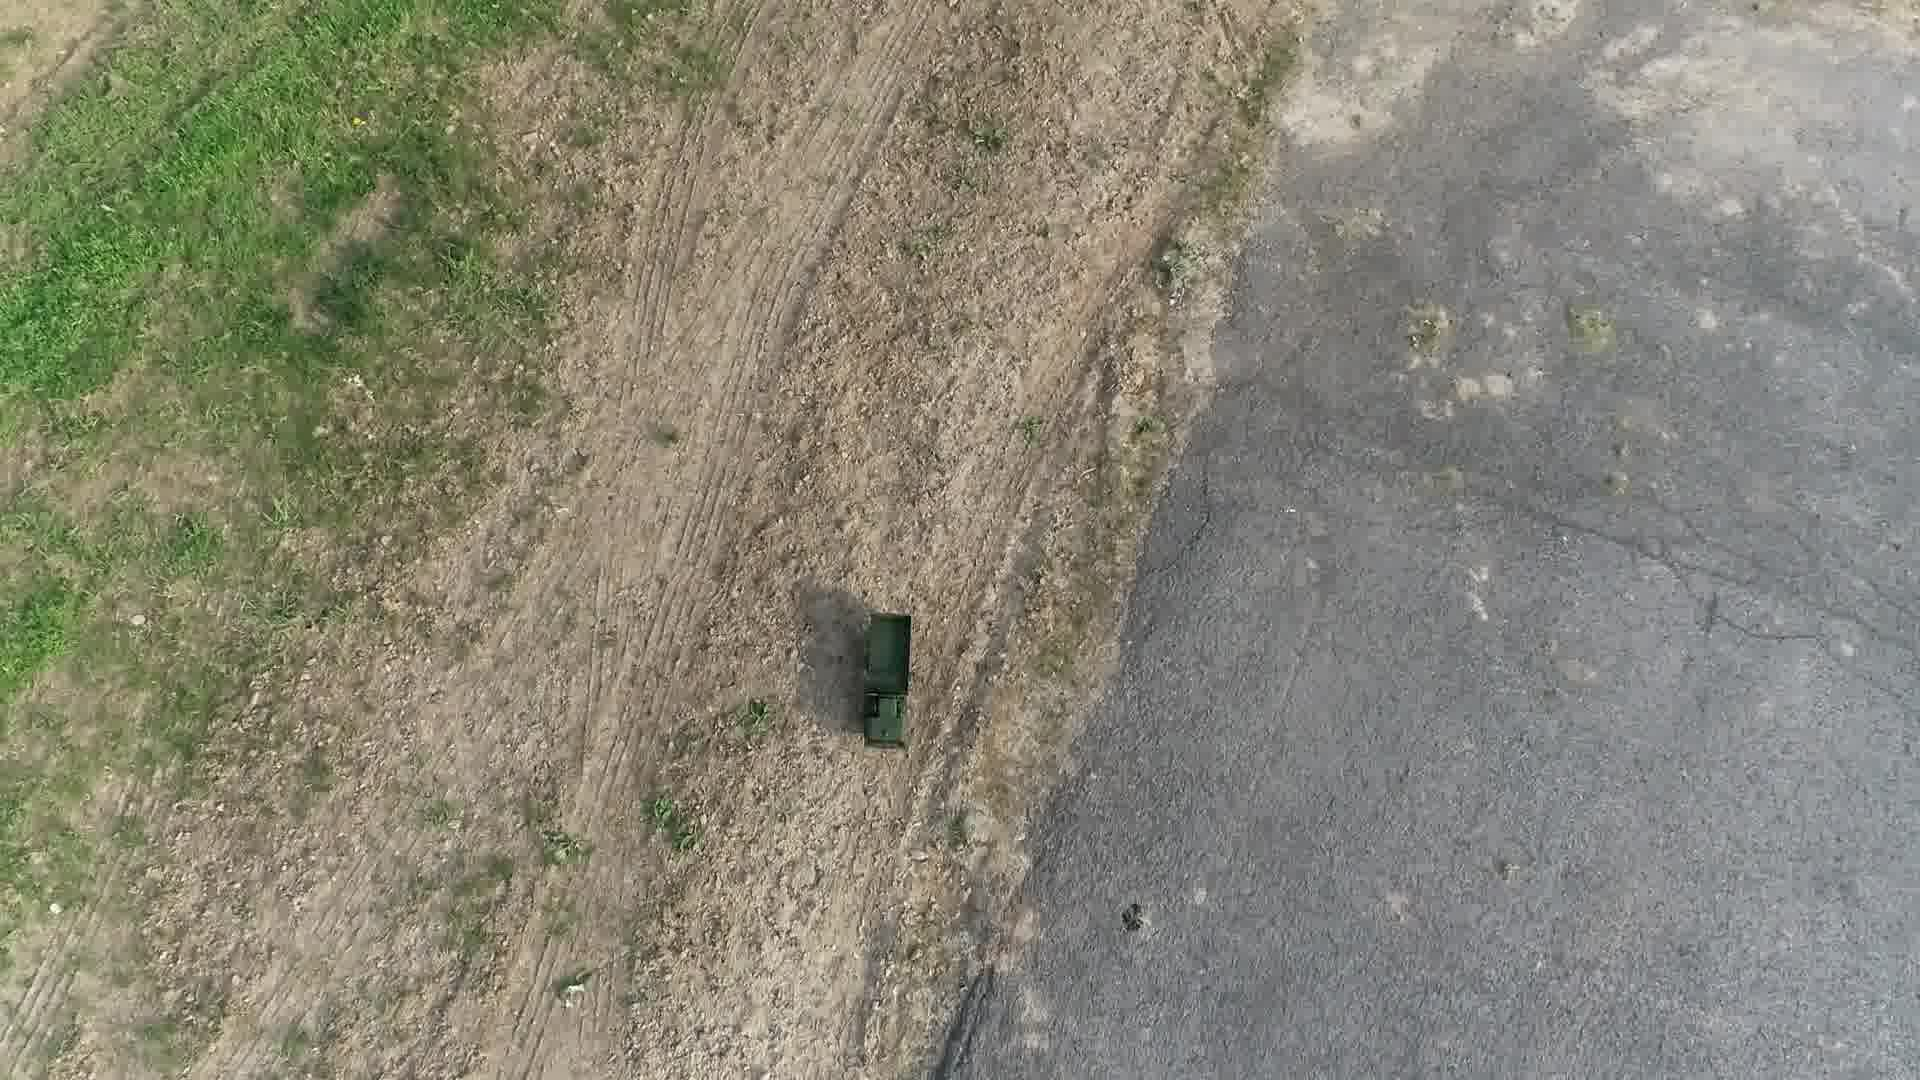transporter9: (853, 607, 923, 753)
